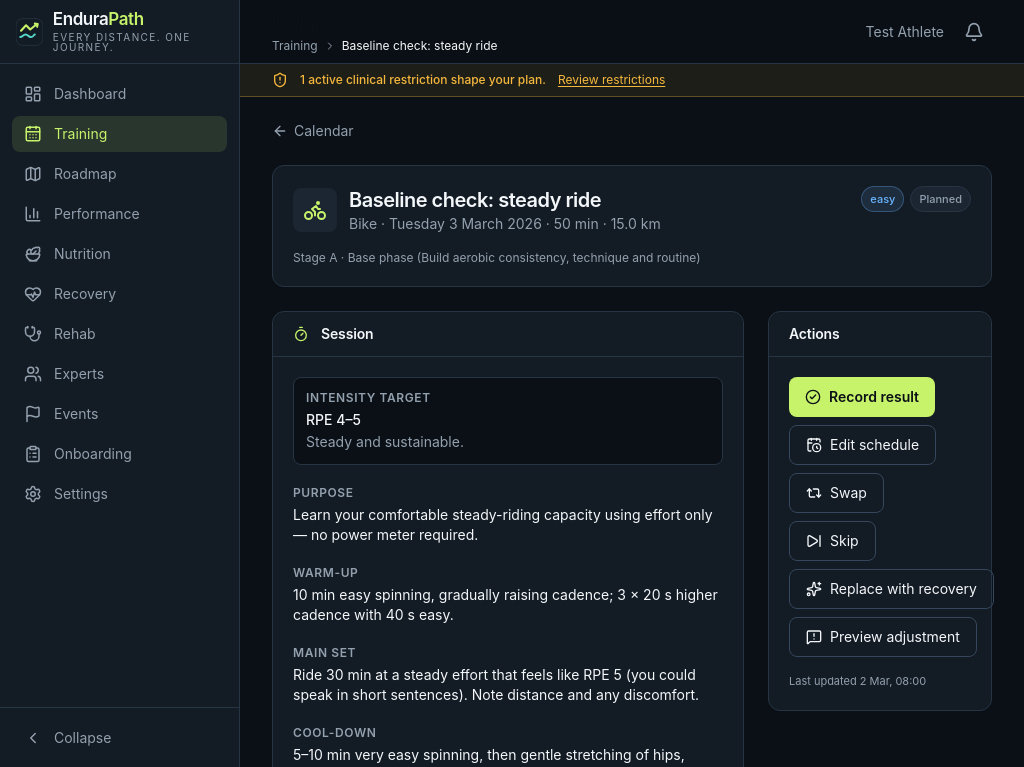
it: workout detail and rescheduling › blocks a move that would breach an active clinical restriction
Click the button "Edit schedule": (863,445) [789,425,936,465]
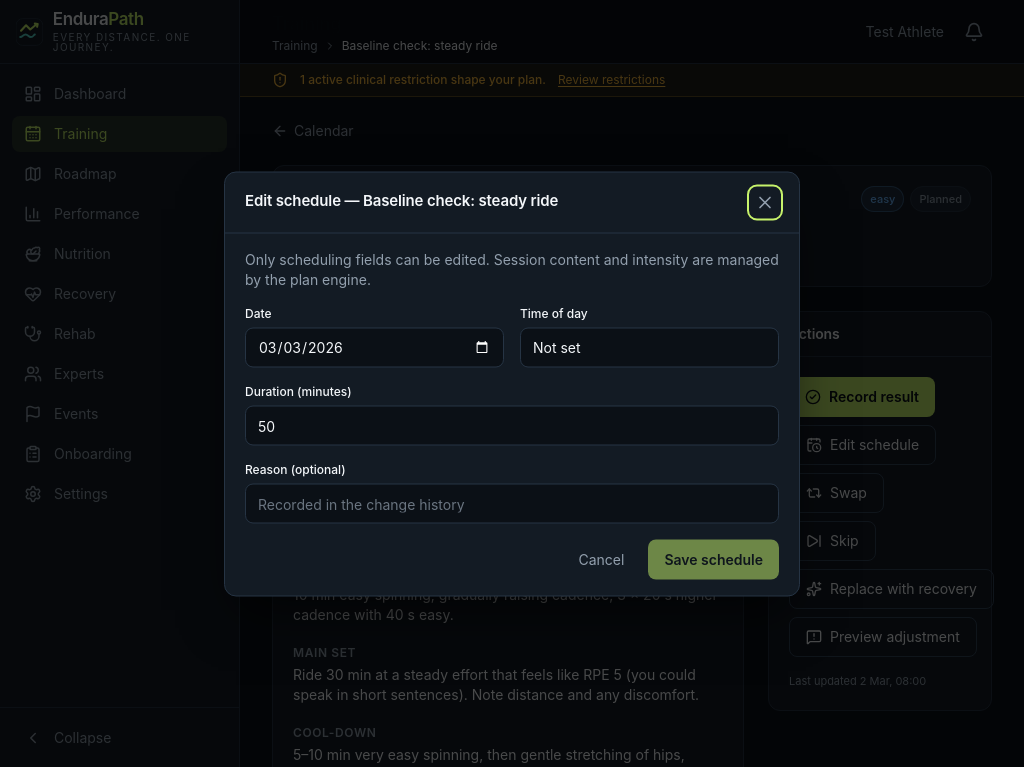
Expected: the dialog is shown, [224,172,800,596]
Expected: the button "Save schedule" is disabled, [648,540,779,580]
